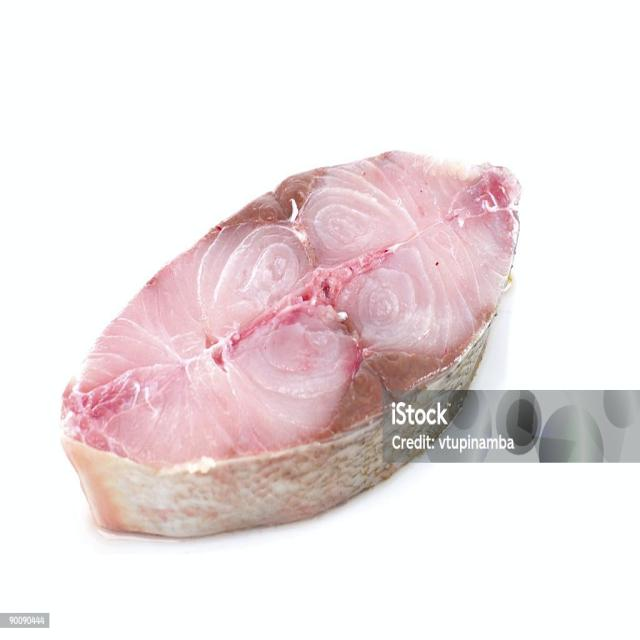Mackerel: (61, 151, 520, 536)
